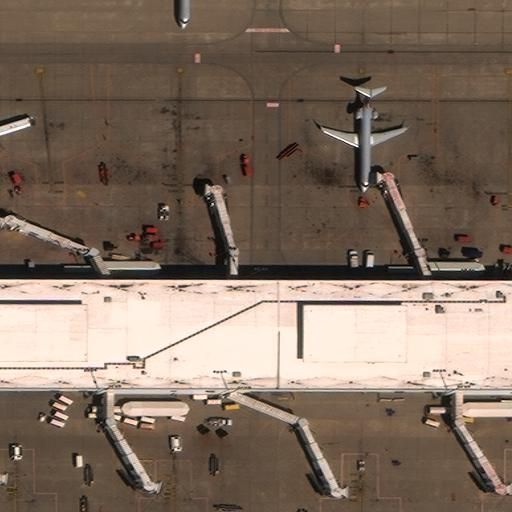Medium Civil Transport: (323, 88, 405, 193)
